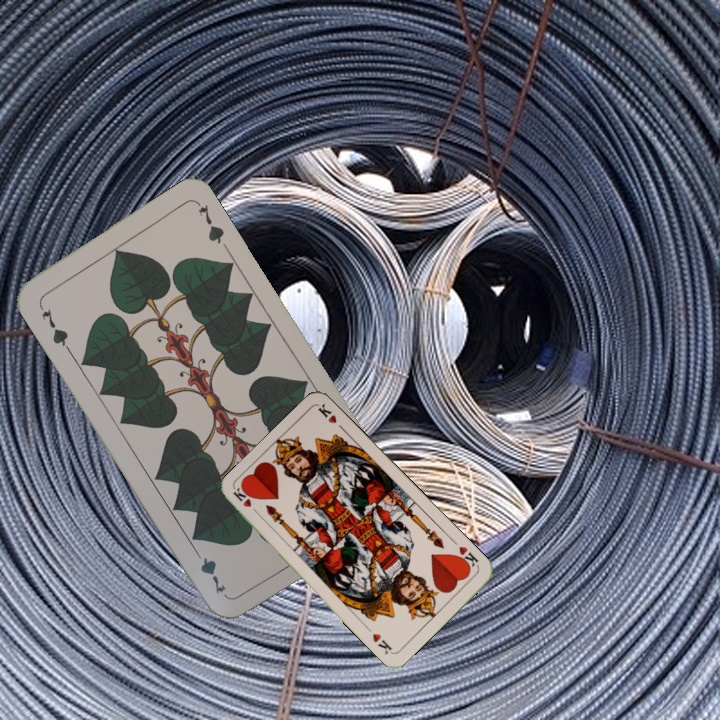G7: (37, 305, 72, 352)
HK: (229, 484, 263, 519), (452, 542, 481, 572)
